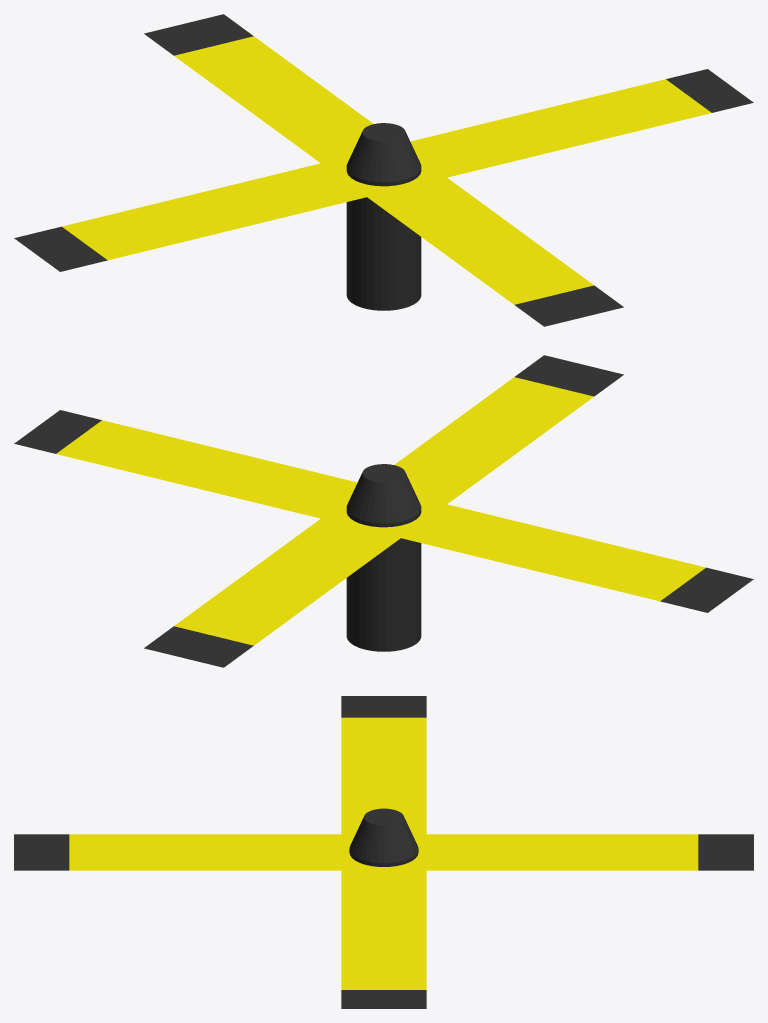
Rendered from dronep.gltf.
The picture shows the model from 3 angles, top to bottom: view 1: azimuth 30°, elevation 25°; view 2: azimuth 150°, elevation 25°; view 3: azimuth 270°, elevation 25°; orthographic projection. The views are drawn at different scales.
Visible parts, largest first — view 1: blade2, blade1, pole; view 2: blade2, blade1, pole; view 3: blade1, blade2, pole.
Part boxes in pixels (x1,y1,x2,y2): blade2: (14,69,753,271); blade1: (144,14,623,326); pole: (346,123,421,310); blade2: (14,410,753,612); blade1: (144,355,623,667); pole: (346,464,421,651); blade1: (14,834,753,870); blade2: (341,696,426,1008); pole: (349,808,418,866).
Size of the model in its own units: 6.96 by 1.56 by 6.96.
